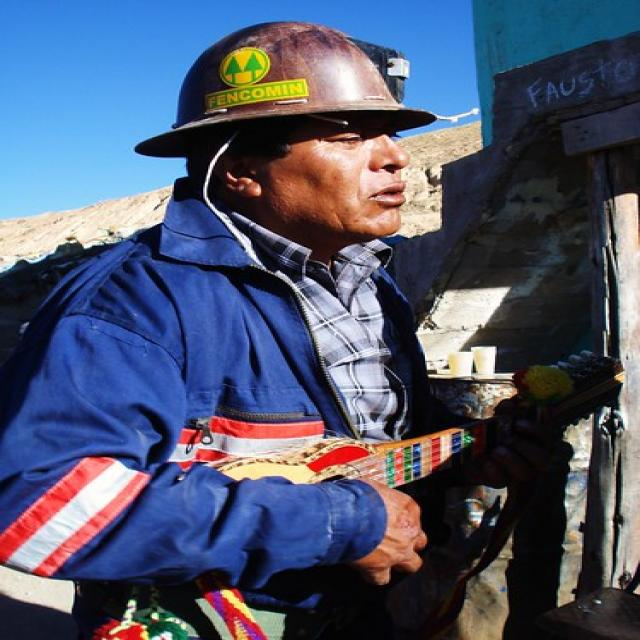Safety-Helmet: (132, 18, 436, 164), (514, 362, 577, 402)
